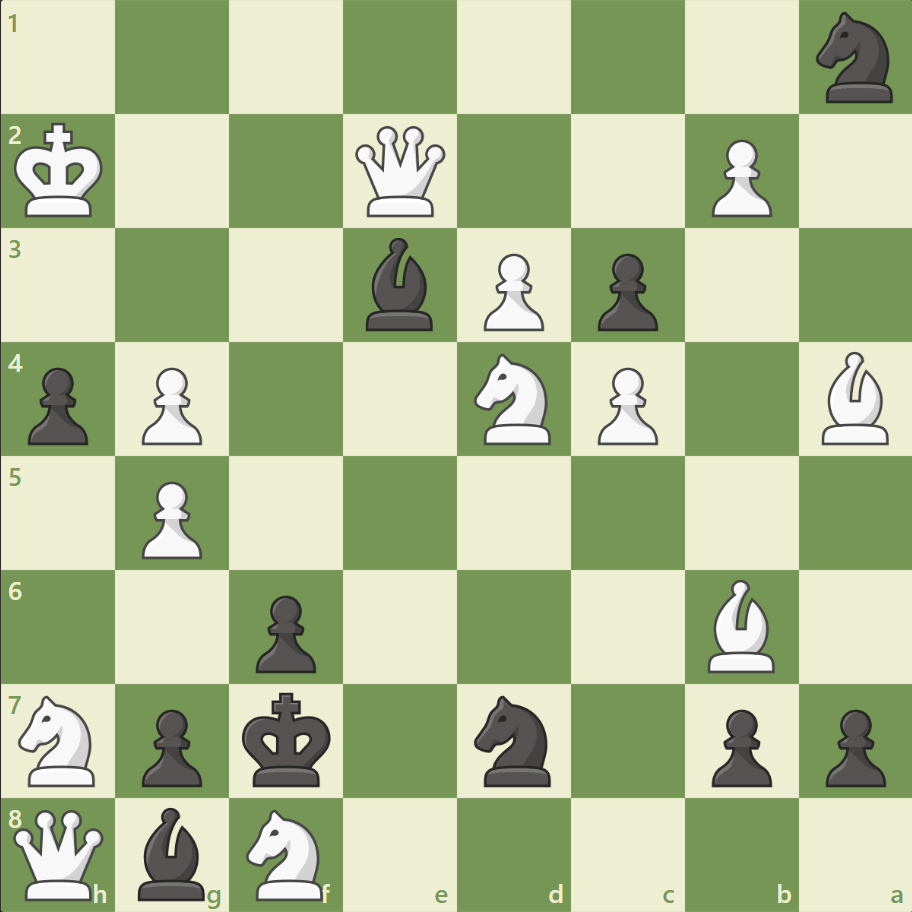B: (698, 574, 782, 676), (812, 347, 896, 449)
K: (11, 117, 111, 225)
N: (11, 688, 108, 791), (238, 802, 335, 904), (465, 348, 562, 450)
P: (133, 473, 208, 564), (133, 359, 208, 450), (474, 246, 549, 337), (701, 132, 776, 223), (588, 359, 662, 450)
Q: (351, 122, 450, 222), (10, 804, 109, 903)
b: (131, 801, 215, 904), (358, 233, 442, 336)
k: (238, 685, 338, 793)
n: (465, 688, 562, 791), (806, 7, 903, 110)
p: (701, 700, 776, 791), (133, 700, 208, 791), (247, 586, 322, 677), (20, 359, 95, 450), (815, 700, 889, 791), (588, 246, 662, 337)
